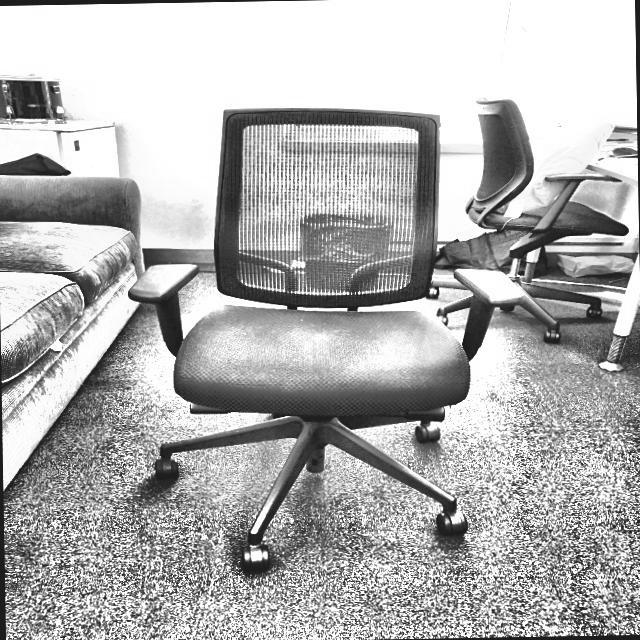chair: (120, 100, 526, 578)
